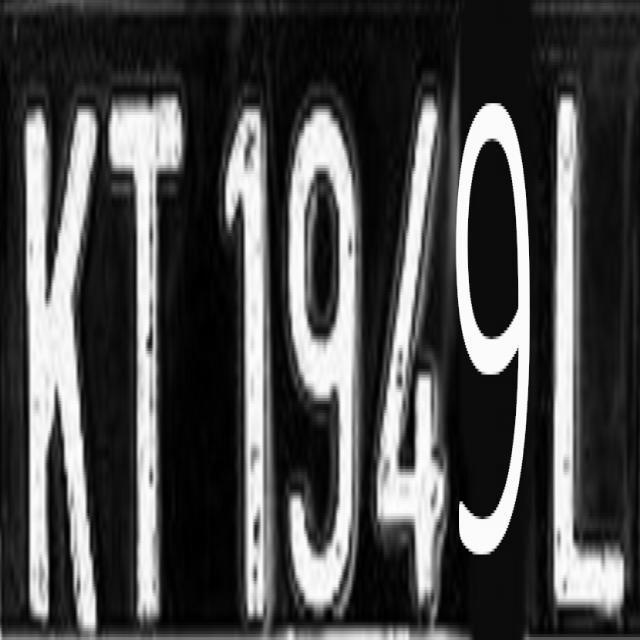1: (220, 90, 278, 630)
4: (366, 80, 448, 640)
9: (278, 92, 367, 631), (448, 80, 530, 568)
K: (9, 99, 100, 640)
L: (540, 83, 634, 616)
T: (107, 86, 185, 640)
